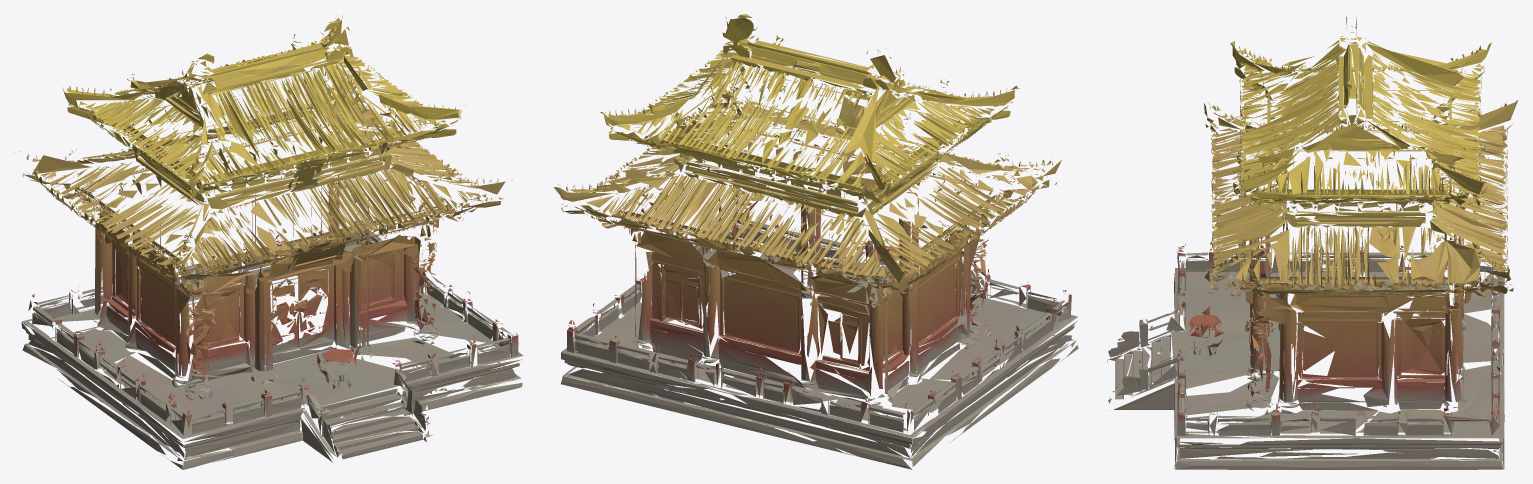
File: building_spirittree.glb
3 views of the same model, side by side, from view 1: azimuth 30°, elevation 25°; view 2: azimuth 150°, elevation 25°; view 3: azimuth 270°, elevation 25° (orthographic). The views are drawn at different scales.
Visible parts, largest first — view 1: world; view 2: world; view 3: world.
Part boxes in pixels (<box>): world: <box>14,15,523,469</box>; world: <box>554,14,1078,469</box>; world: <box>1107,16,1518,469</box>.
Size of the model in its own units: 0.7357 by 0.6668 by 0.7378.
